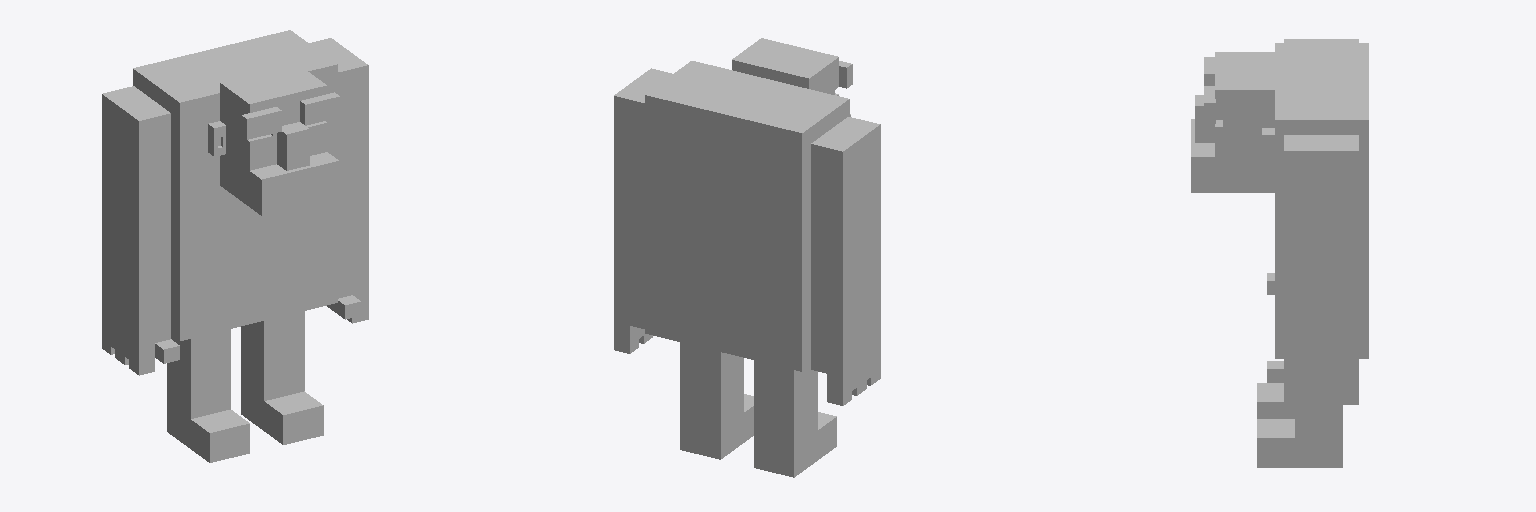
The model's file is Pirate.obj.
3 renders of one model, left to right at view 1: azimuth 30°, elevation 25°; view 2: azimuth 150°, elevation 25°; view 3: azimuth 270°, elevation 25°, orthographic.
Parts seen in each view (by area): view 1: Cube.009_Cube.007; view 2: Cube.009_Cube.007; view 3: Cube.009_Cube.007.
Boxes of the visible parts, <box> form: Cube.009_Cube.007: <box>102,30,368,462</box>; Cube.009_Cube.007: <box>614,38,880,477</box>; Cube.009_Cube.007: <box>1191,39,1368,467</box>.
Bounding box in the file's own units: 3.22 × 4.96 × 2.16.